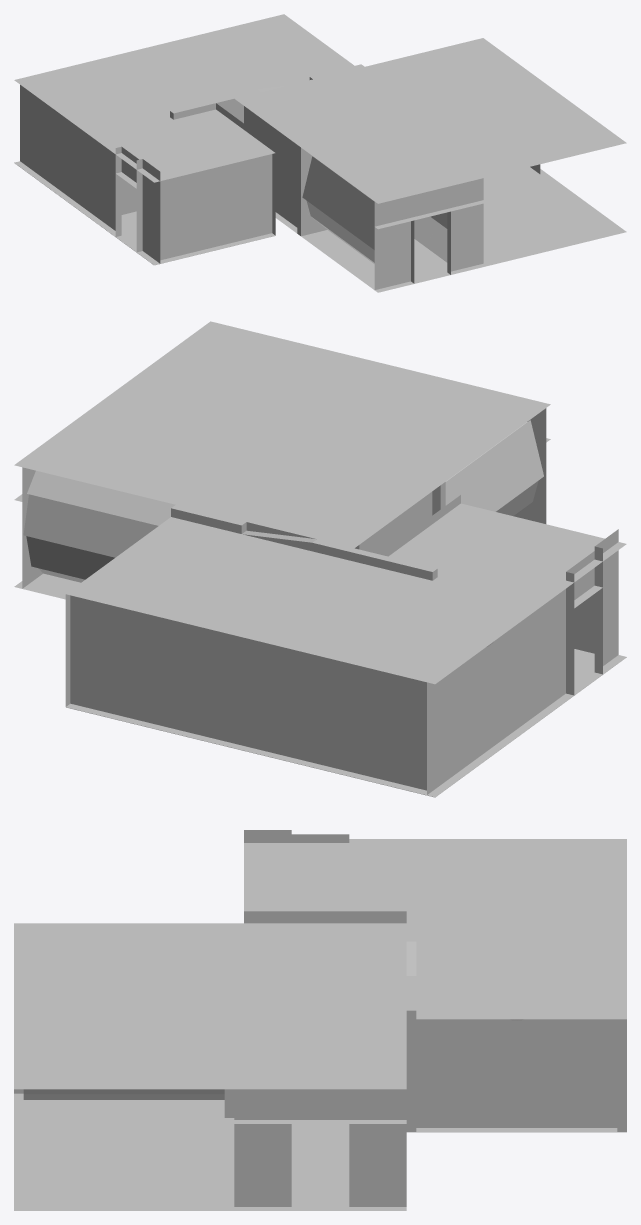
File: cont3_513.fbx
3 renders of one model, top to bottom at view 1: azimuth 30°, elevation 25°; view 2: azimuth 150°, elevation 25°; view 3: azimuth 270°, elevation 25°, orthographic. The views are drawn at different scales.
Parts seen in each view (by area): view 1: dirtymetal, cloth, white, concretefloor, concretewall, metal3, controlpanel; view 2: dirtymetal, white, cloth, concretefloor, controlpanel, concretewall, tilefloor, metal3; view 3: dirtymetal, cloth, metal3, white, concretewall, concretefloor, tilefloor, vent.
Part boxes in pixels (x1,y1,x2,y2): dirtymetal: (235,39,626,283); cloth: (14,14,354,136); white: (20,64,364,265); concretefloor: (91,103,447,265); concretewall: (237,38,545,292); metal3: (275,167,626,292); controlpanel: (23,87,96,216); dirtymetal: (22,321,550,575); white: (65,505,626,794); cloth: (66,517,540,684); concretefloor: (23,420,626,716); controlpanel: (432,614,531,789); concretewall: (14,368,550,588); tilefloor: (66,703,544,797); metal3: (15,573,80,599); dirtymetal: (14,923,406,1206); cloth: (406,839,626,1019); metal3: (14,1093,406,1210); white: (244,830,626,1131); concretewall: (14,923,406,1210); concretefloor: (23,839,416,1099); tilefloor: (407,1128,626,1132); vent: (109,953,334,1048).
Size of the model in its own units: 20.48 by 4.65 by 20.48.
